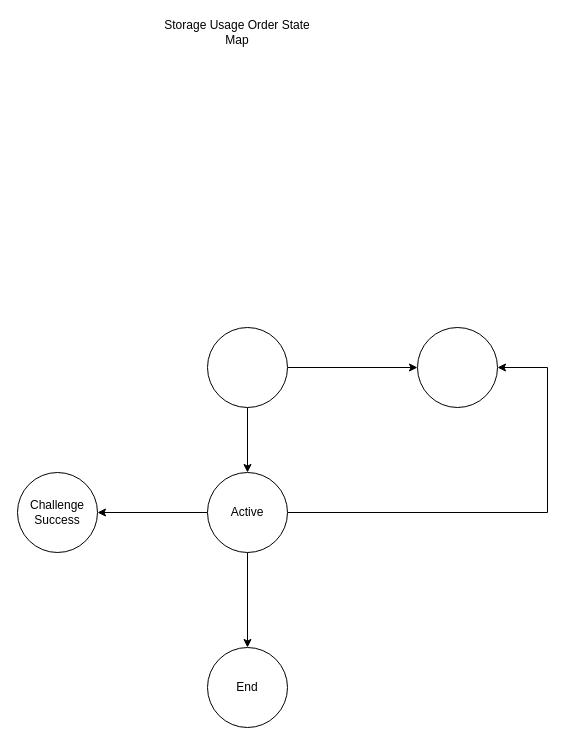
Some shapes in this 573 by 745 pixel diagram are drawn without their labels. Here are the shapes that lost their labels. From the top down, the centre of each, then its label:
At point (247, 367): "Wait".
At point (457, 367): "Cancelled".
